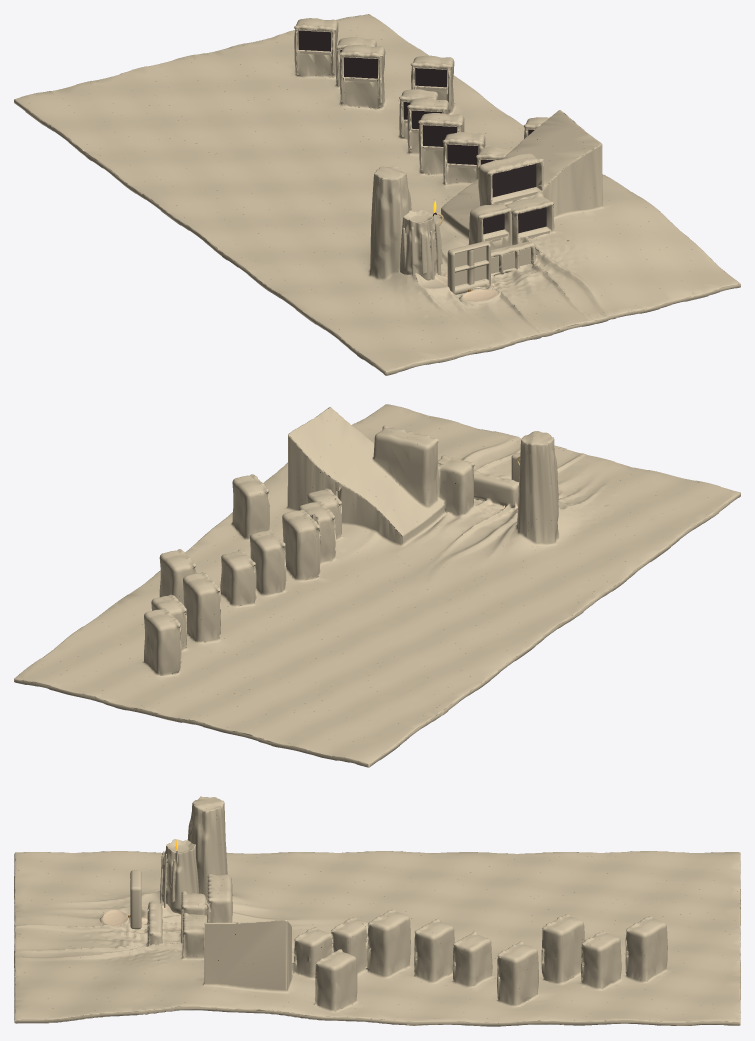
The model's file is scene-mobile.glb.
3 renders of one model, top to bottom at view 1: azimuth 30°, elevation 25°; view 2: azimuth 150°, elevation 25°; view 3: azimuth 270°, elevation 25°, orthographic. The views are drawn at different scales.
Parts seen in each view (by area): view 1: continuous_sculpted_wax_mass, tapered_front_candle, phone_integrated_clock_bank, archive_got-s4, archive_breaking-bad-final, archive_house-of-cards-s2, archive_dexter-s7-finale; view 2: continuous_sculpted_wax_mass; view 3: continuous_sculpted_wax_mass, tapered_front_candle, phone_integrated_clock_bank.
Part boxes in pixels (x1,y1,x2,y2): continuous_sculpted_wax_mass: (14, 14, 740, 375); tapered_front_candle: (400, 209, 442, 280); phone_integrated_clock_bank: (447, 241, 490, 294); archive_got-s4: (492, 164, 536, 197); archive_breaking-bad-final: (344, 57, 377, 78); archive_house-of-cards-s2: (298, 30, 330, 51); archive_dexter-s7-finale: (447, 144, 478, 164); continuous_sculpted_wax_mass: (14, 404, 740, 767); continuous_sculpted_wax_mass: (14, 796, 740, 1026); tapered_front_candle: (160, 839, 198, 914); phone_integrated_clock_bank: (130, 870, 141, 929).
Bounding box in the file's own units: 53.11 × 15.4 × 96.04.
9 materials, 2 textured.
